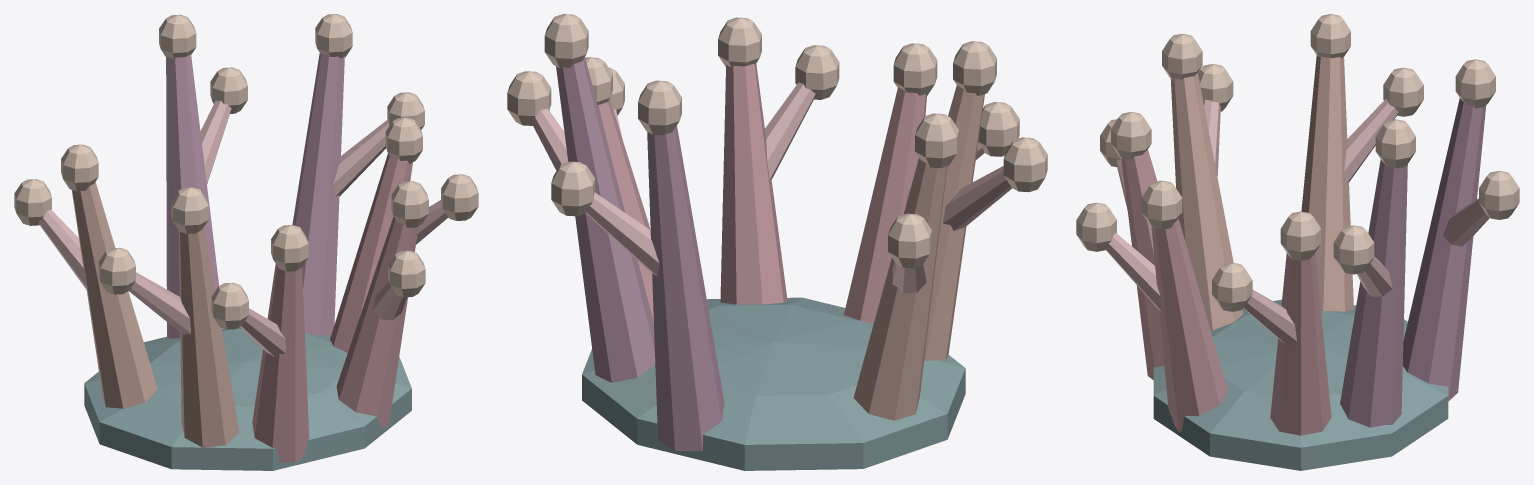
File: marine-coral.glb
3 views of the same model, side by side, from view 1: azimuth 30°, elevation 25°; view 2: azimuth 150°, elevation 25°; view 3: azimuth 270°, elevation 25° (orthographic). The views are drawn at different scales.
Parts seen in each view (by area): view 1: marine-coral; view 2: marine-coral; view 3: marine-coral.
Boxes of the visible parts, <box> form: marine-coral: <box>14,14,478,470</box>; marine-coral: <box>507,14,1047,470</box>; marine-coral: <box>1076,14,1519,470</box>.
Size of the model in its own units: 3.75 by 3.24 by 3.54.
